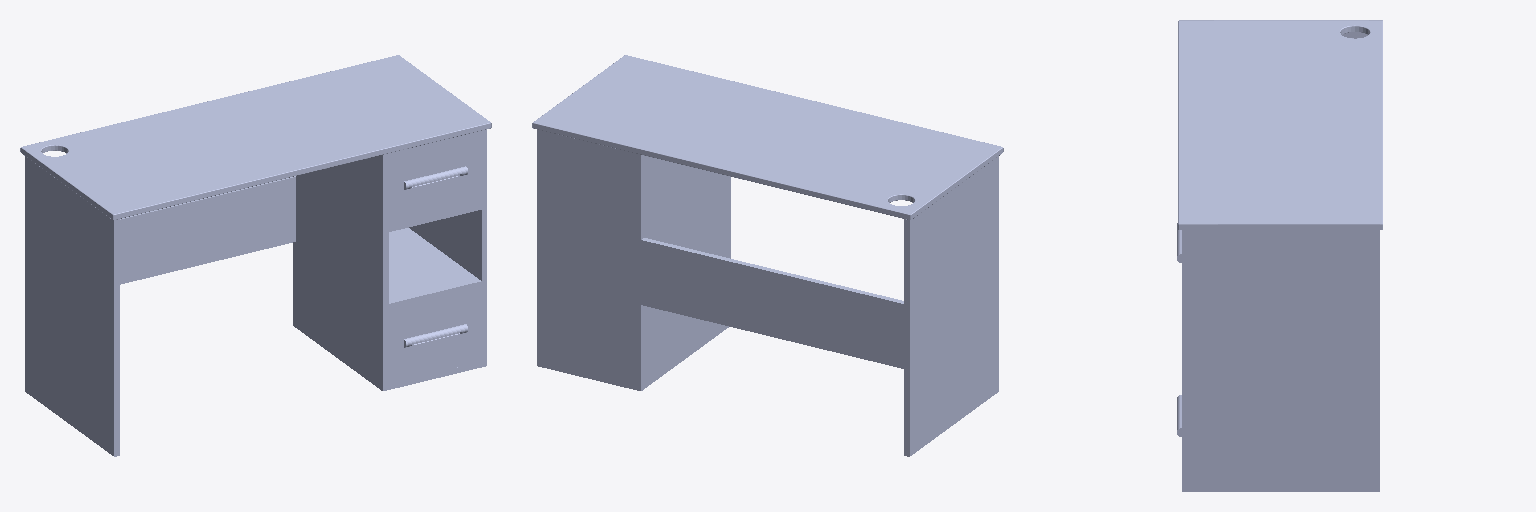
robot.urdf — computer_desk3:
<robot
  name="computer_desk3">
  <link
    name="computer_desk3">
    <inertial>
      <origin
        xyz="0.15564 0.020532 0.43562"
        rpy="0 0 0" />
      <mass
        value="48.363" />
      <inertia
        ixx="4.3327475535473"
        ixy="-0.144761084393071"
        ixz="-0.879210146919557"
        iyy="11.3180535215957"
        iyz="0.0723580900865881"
        izz="9.68015857784454" />
    </inertial>
    <visual>
      <origin
        xyz="0 0 0"
        rpy="0 0 0" />
      <geometry>
        <mesh
          filename="package://computer_desk3/meshes/computer_desk3.dae" />
      </geometry>
      <material
        name="">
        <color
          rgba="0.79216 0.81961 0.93333 1" />
      </material>
    </visual>
    <collision>
      <origin
        xyz="0 0 0"
        rpy="0 0 0" />
      <geometry>
        <mesh
          filename="package://computer_desk3/meshes/computer_desk3.dae" />
      </geometry>
    </collision>
  </link>
</robot>

--- Render facts (derived) ---
Views: 3 orthographic renders of the robot side by side, from view 1: azimuth 30°, elevation 25°; view 2: azimuth 150°, elevation 25°; view 3: azimuth 270°, elevation 25°.
Model computer_desk3 with 1 links and 0 joints (none), rooted at computer_desk3, posed all joints at 0.
Visible links, largest first — view 1: computer_desk3; view 2: computer_desk3; view 3: computer_desk3.
Boxes of the visible links, x1=… form: computer_desk3: x1=20, y1=55, x2=491, y2=456; computer_desk3: x1=532, y1=55, x2=1003, y2=456; computer_desk3: x1=1177, y1=20, x2=1382, y2=491.
Size in the robot's own frame: 1.22 by 0.5215 by 0.75 metres.
Meshes: 1 distinct files referenced, 1 mesh visuals loaded (1 Collada DAE).